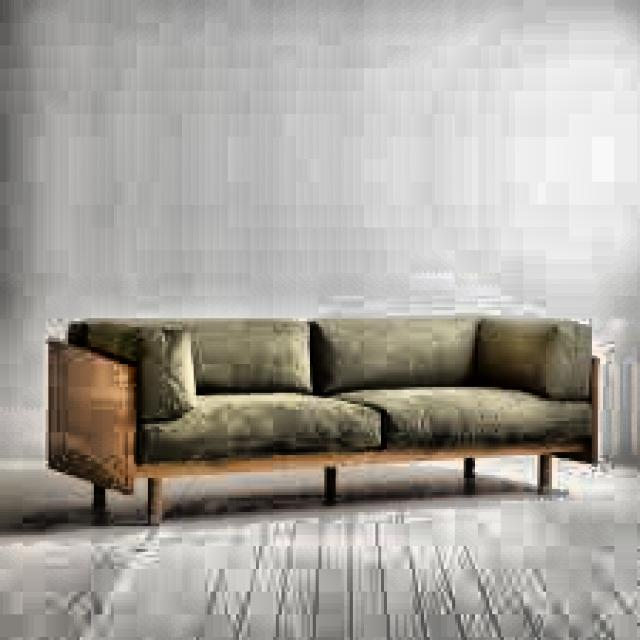sofa: (45, 310, 606, 501)
